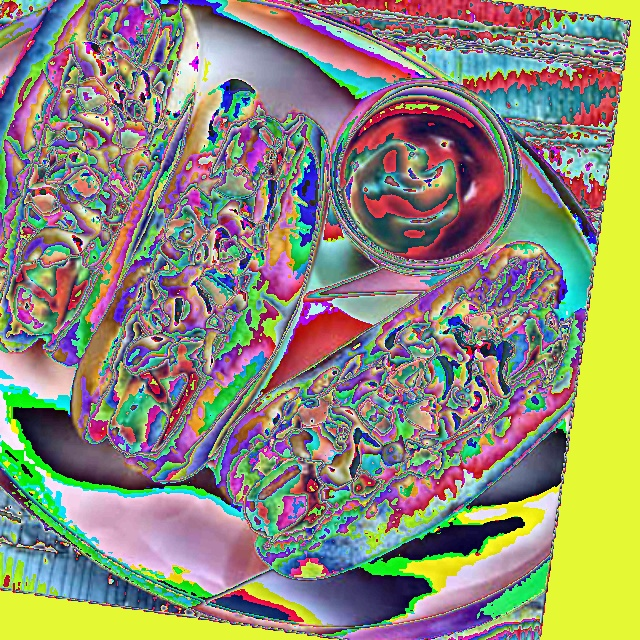background: (0, 0, 588, 581), (171, 95, 508, 263)
